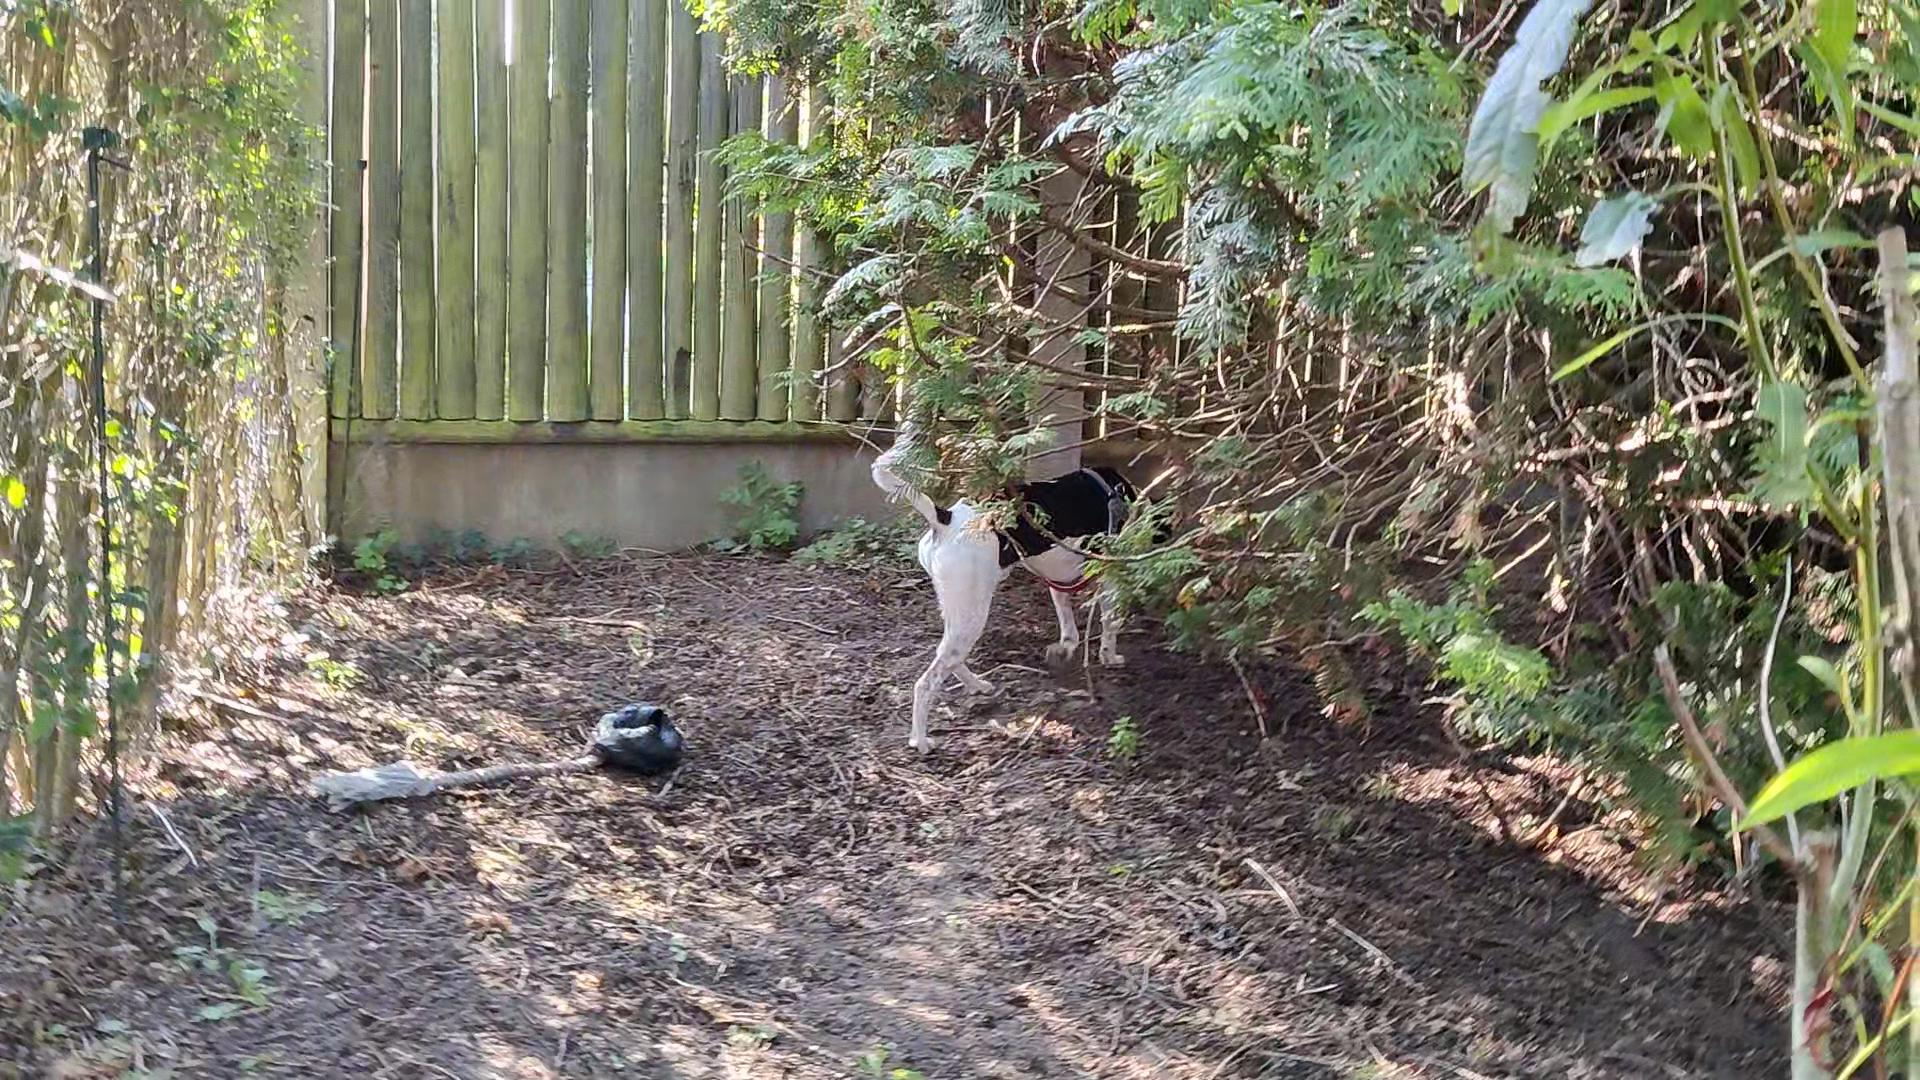Dog: (857, 447, 1199, 760)
